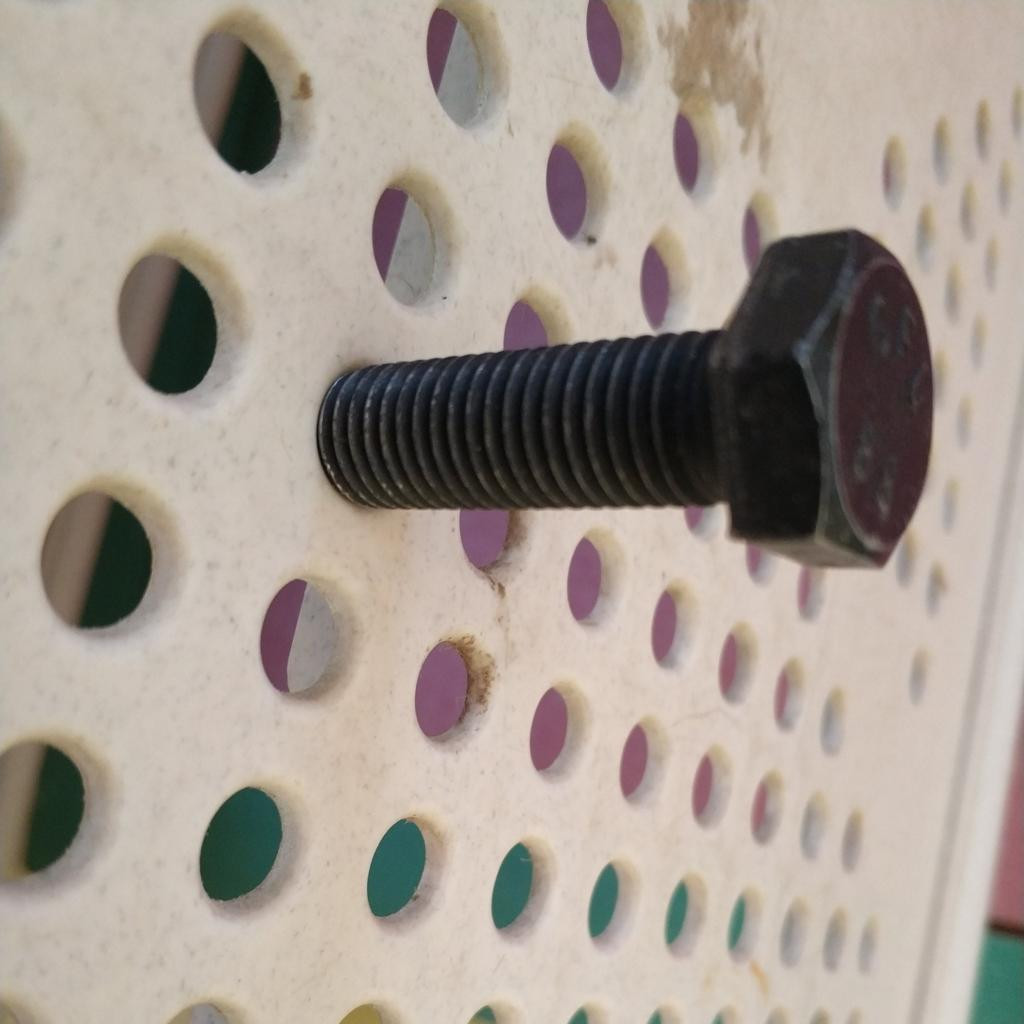screwtype2black: (310, 223, 948, 580)
